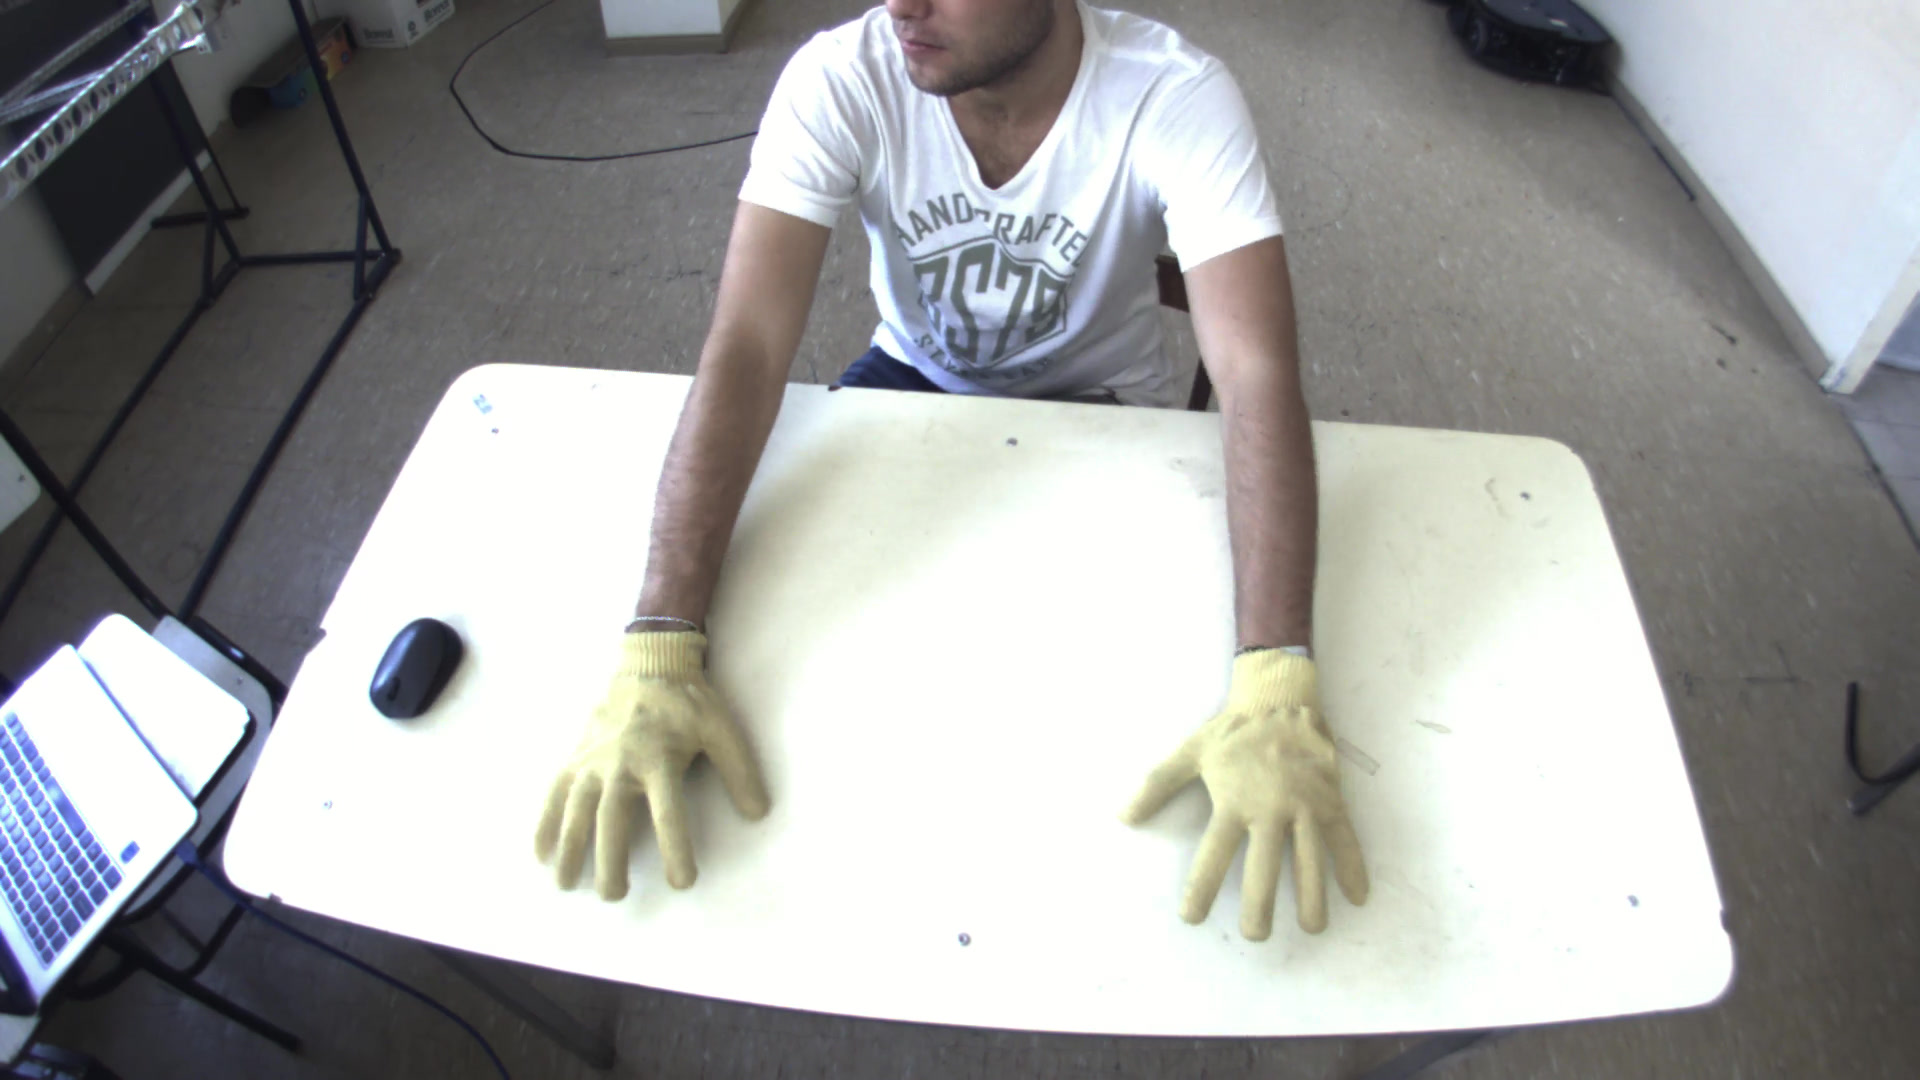hand: (1121, 642, 1389, 949), (518, 618, 775, 905)
